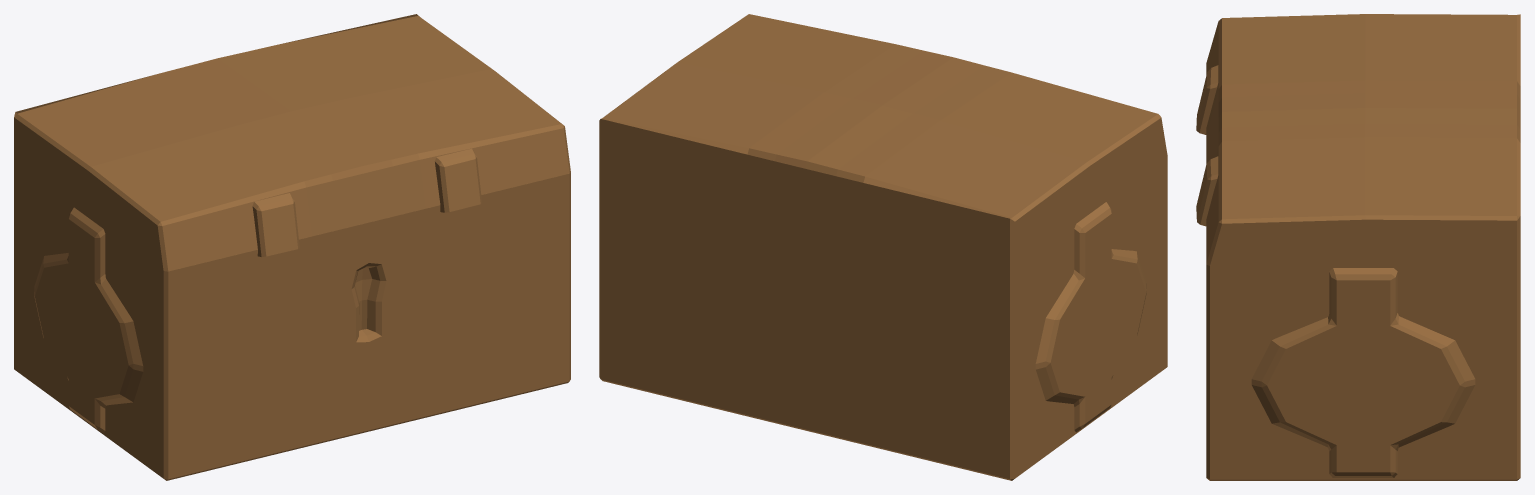
File: NST_Box_Openable.fbx
3 views of the same model, side by side, from view 1: azimuth 30°, elevation 25°; view 2: azimuth 150°, elevation 25°; view 3: azimuth 270°, elevation 25° (orthographic). The views are drawn at different scales.
Parts seen in each view (by area): view 1: NST_Box, NST_Box_Openable; view 2: NST_Box, NST_Box_Openable; view 3: NST_Box_Openable, NST_Box.
Part boxes in pixels (left/top/right/bottom): NST_Box: left=14, top=162, right=570, bottom=480; NST_Box_Openable: left=14, top=14, right=570, bottom=271; NST_Box: left=599, top=155, right=1167, bottom=480; NST_Box_Openable: left=599, top=14, right=1167, bottom=267; NST_Box_Openable: left=1196, top=14, right=1520, bottom=265; NST_Box: left=1206, top=264, right=1520, bottom=480.
Bounding box in the file's own units: 40.52 × 24.36 × 26.29.
